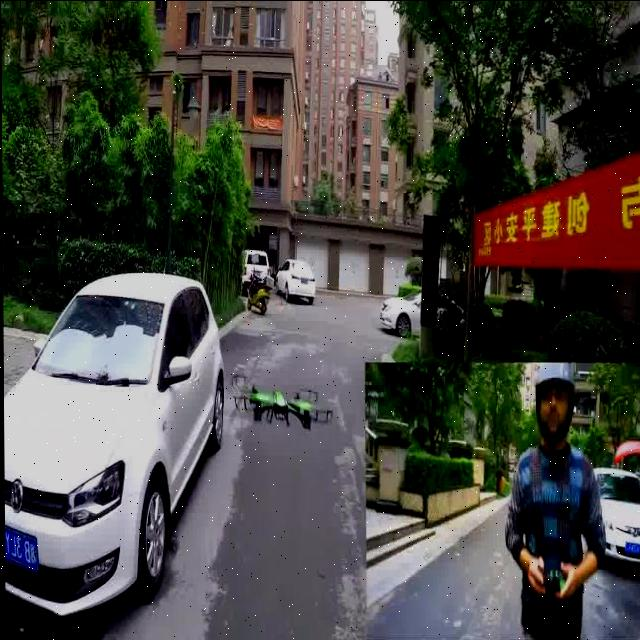drone: (227, 356, 334, 440)
